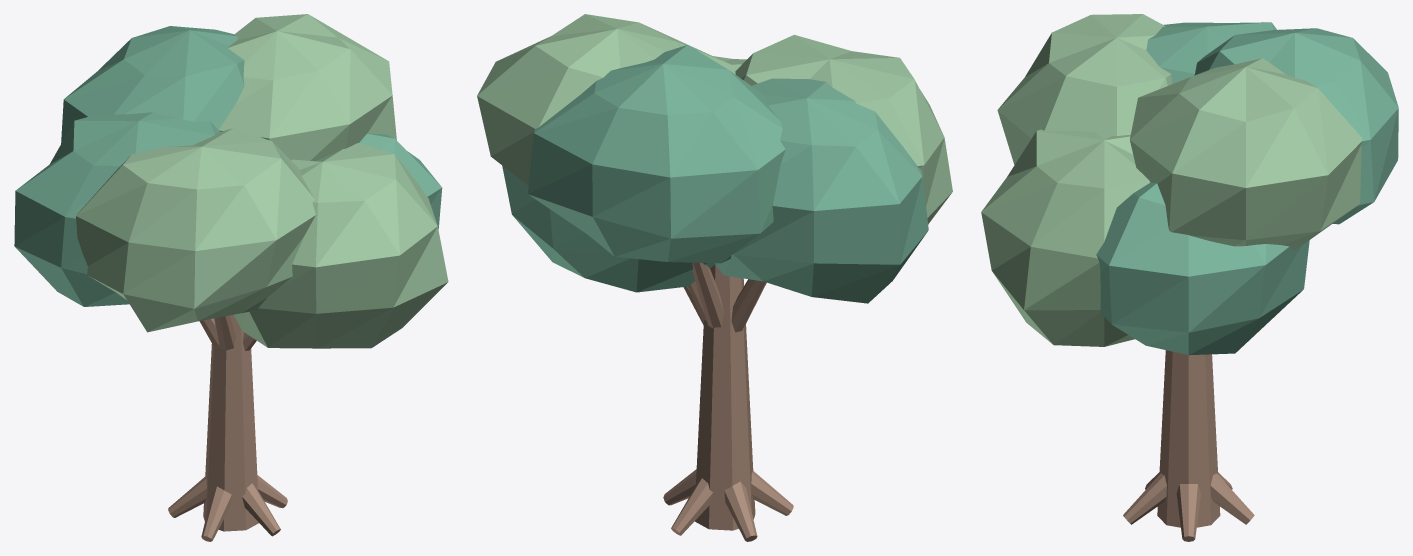
File: jungle_tree.glb
3 renders of one model, left to right at view 1: azimuth 30°, elevation 25°; view 2: azimuth 150°, elevation 25°; view 3: azimuth 270°, elevation 25°, orthographic. The views are drawn at different scales.
Visible parts, largest first — view 1: jungle_tree; view 2: jungle_tree; view 3: jungle_tree.
Part boxes in pixels (bbox=[...]): jungle_tree: bbox=[14, 14, 448, 541]; jungle_tree: bbox=[477, 14, 952, 541]; jungle_tree: bbox=[981, 14, 1398, 541].
Bounding box in the file's own units: 5.09 × 5.81 × 4.51.
